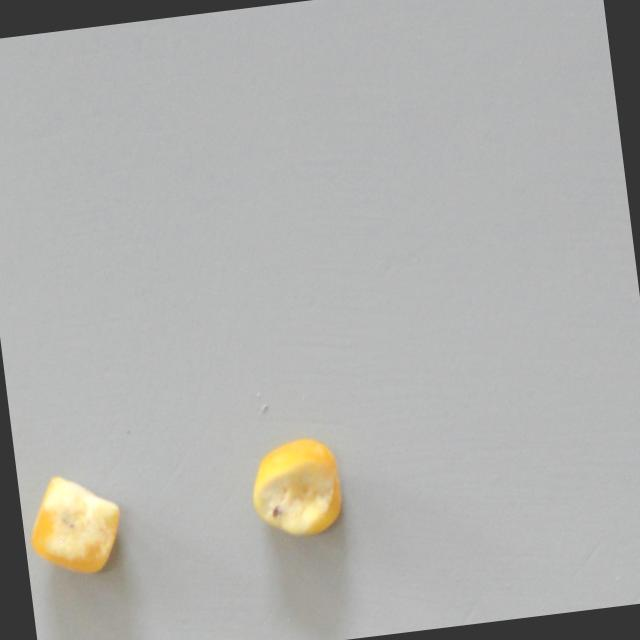dañado: (231, 427, 356, 551), (21, 466, 130, 581)
